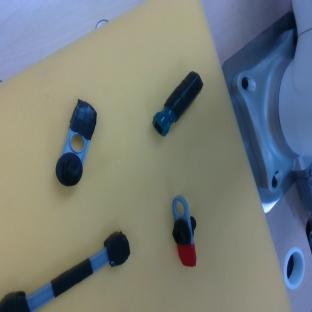part_1_bad: (51, 98, 102, 189)
part_1_good: (172, 196, 196, 265)
part_2_bad: (148, 68, 208, 137)
part_3_bad: (0, 228, 136, 312)
